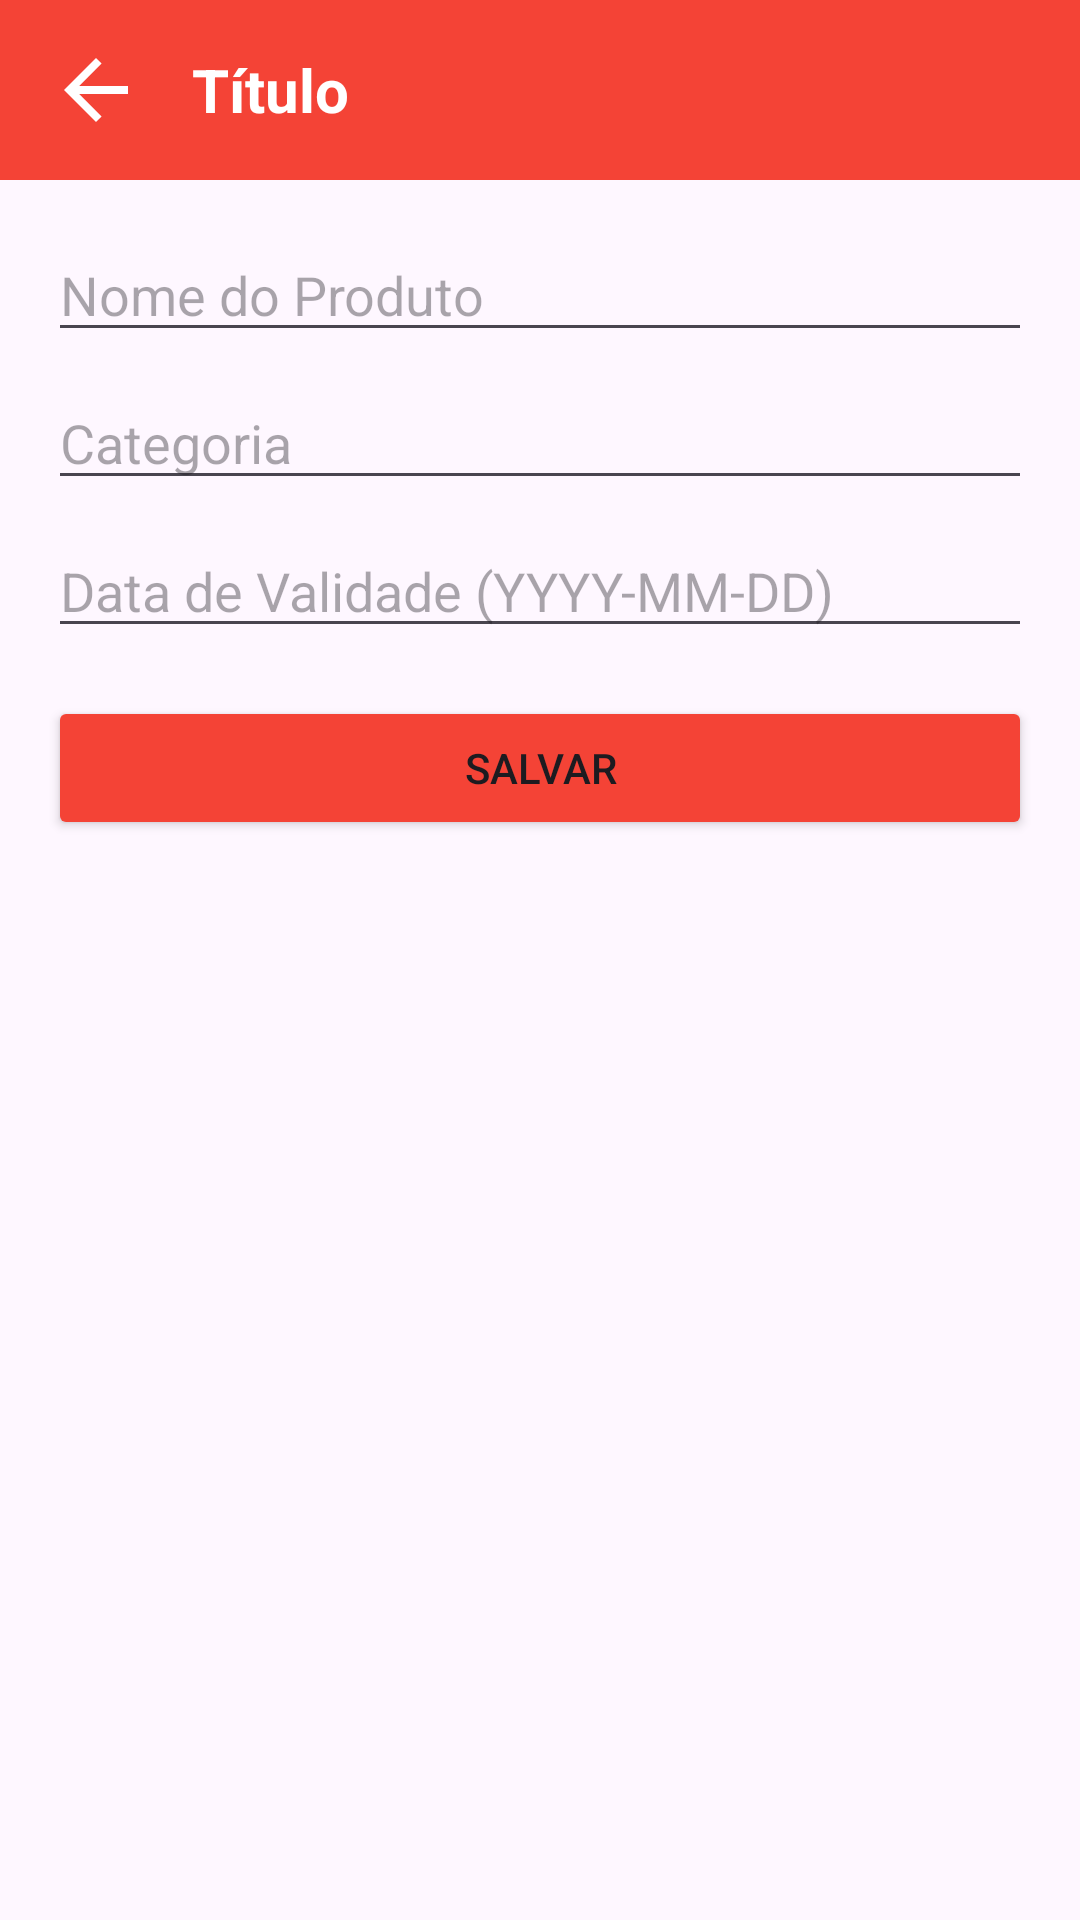

Icons on this 1080x1920 Android screen, each with its box as (x1, y1, x2, y2):
Voltar: (64, 58, 128, 122)
